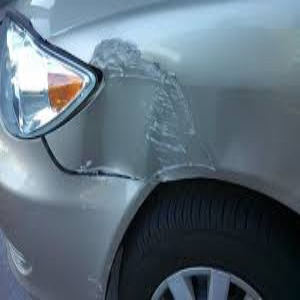door: (43, 73, 230, 209)
